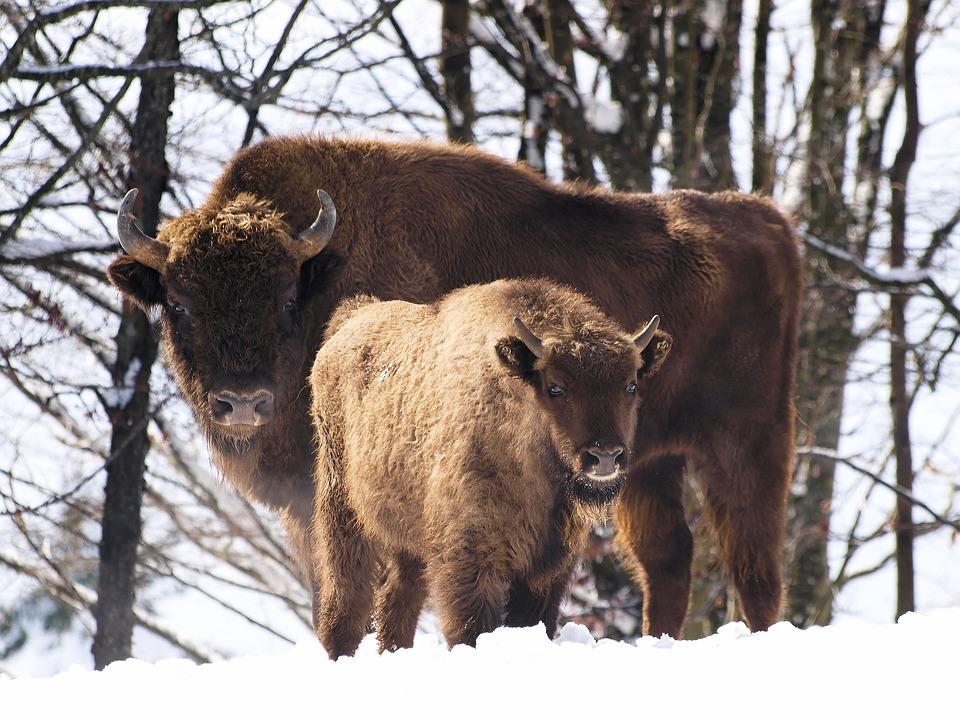zubr: (102, 91, 835, 684), (277, 261, 702, 648)
